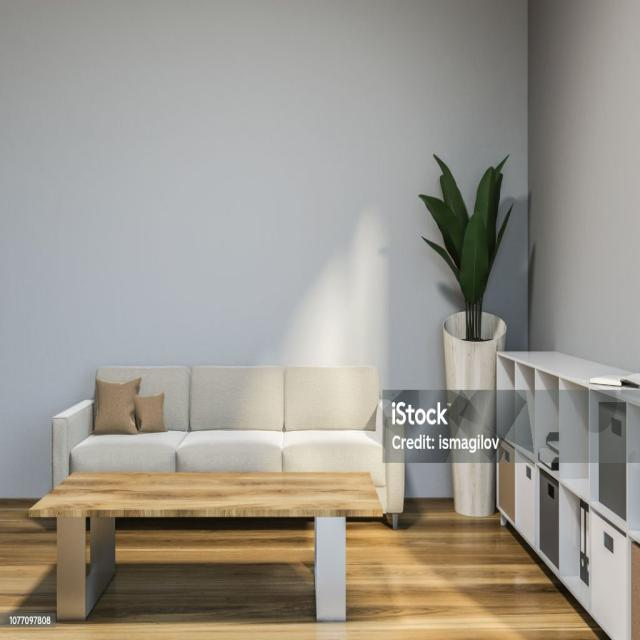back_cushion: (97, 366, 378, 431)
left_arm: (383, 411, 404, 513)
right_arm: (52, 400, 92, 486)
seat_cushion: (71, 430, 388, 505)
stallion-sofa1: (52, 366, 403, 519)
